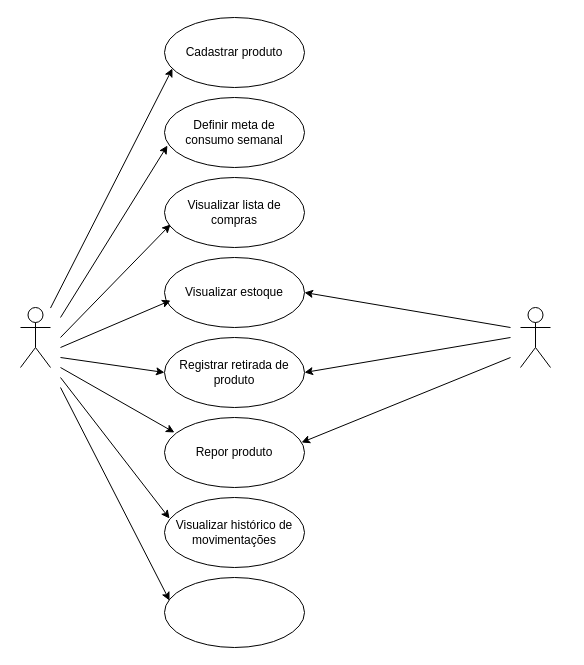
Some shapes in this 584 by 665 pixel diagram are drawn without their labels. The shapes that lost their labels are listed below. From the top down, each one's box as (x1, y1, x2, y2) in pixels, then its label:
(20, 306, 50, 368): Gestor
(520, 306, 550, 368): Funcionário
(164, 576, 304, 648): Estornar retirada
